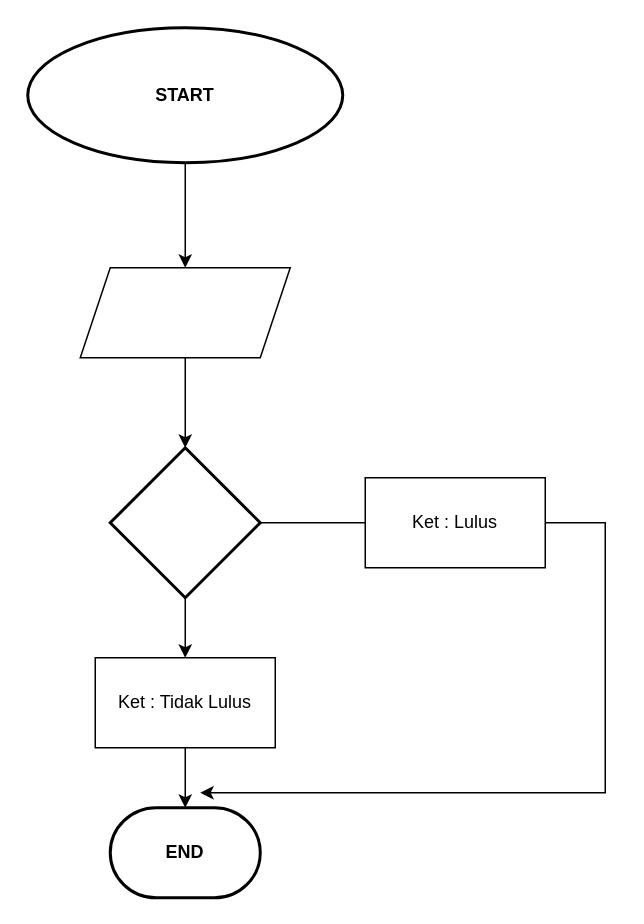
This 644x924 diagram has some shape labels left out. The shapes that lost their labels are listed below. From the top down, each one's centre as x and y in pixels, then its label:
At (184,312): "Siswa menginput ranking".
At (184,522): "IF ranking < 20".
